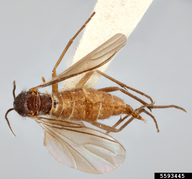Fruit fly: (8, 34, 160, 166)
